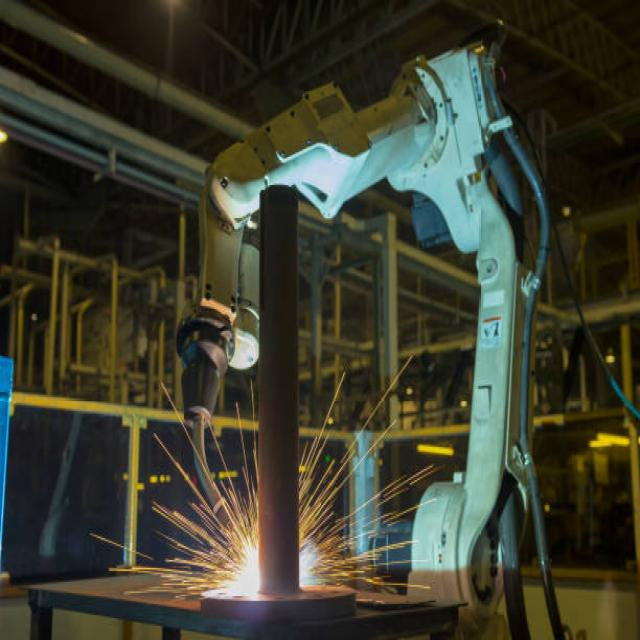Robotic-arm: (201, 39, 545, 605)
